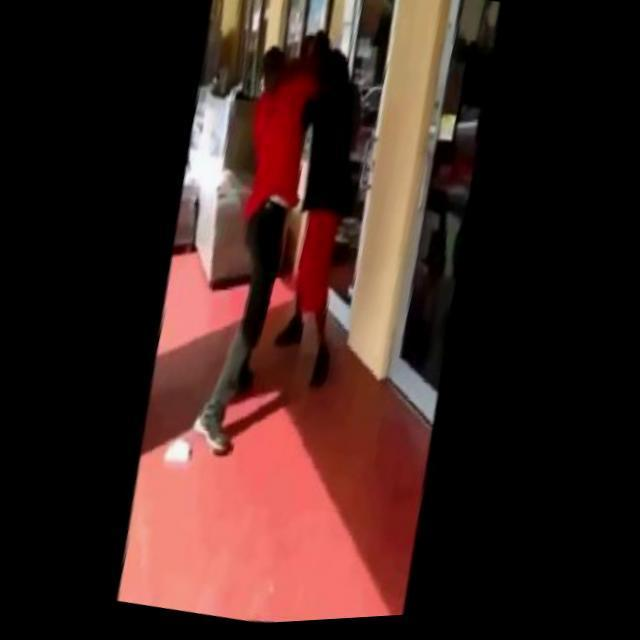fight: (168, 14, 414, 480)
